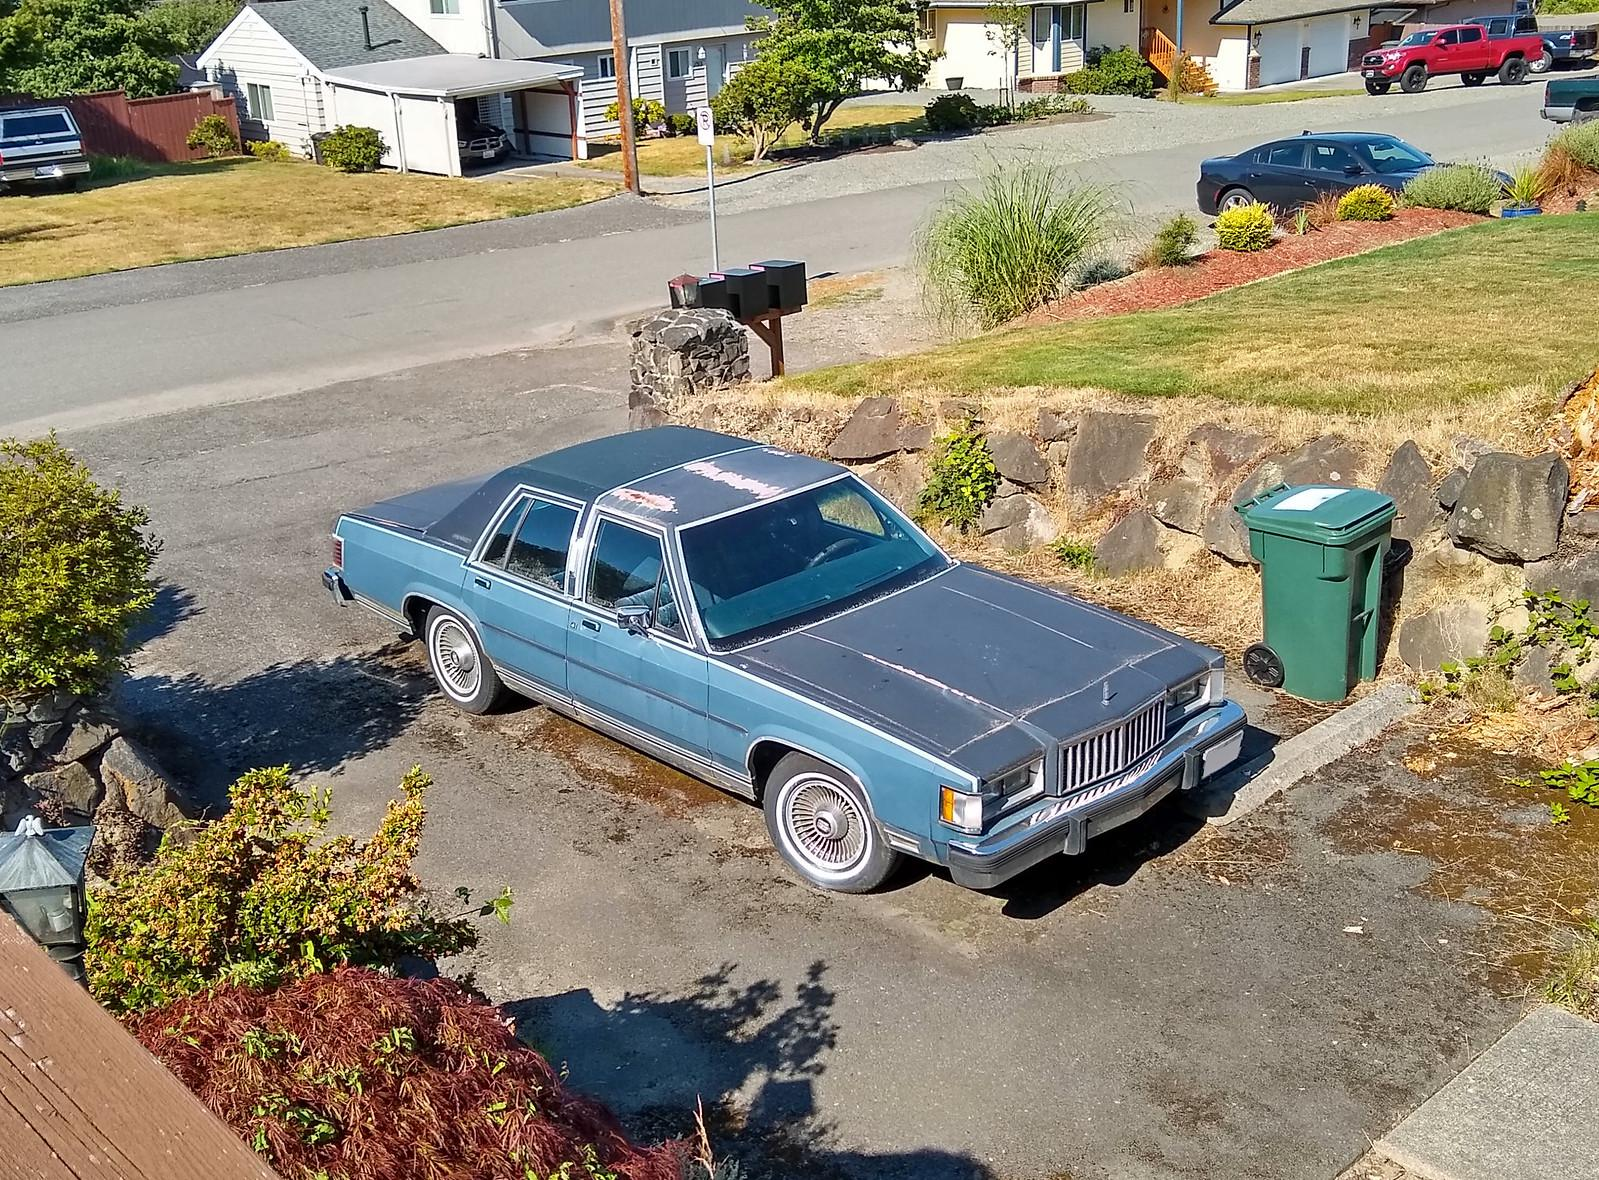roof-dent: (525, 430, 881, 543)
